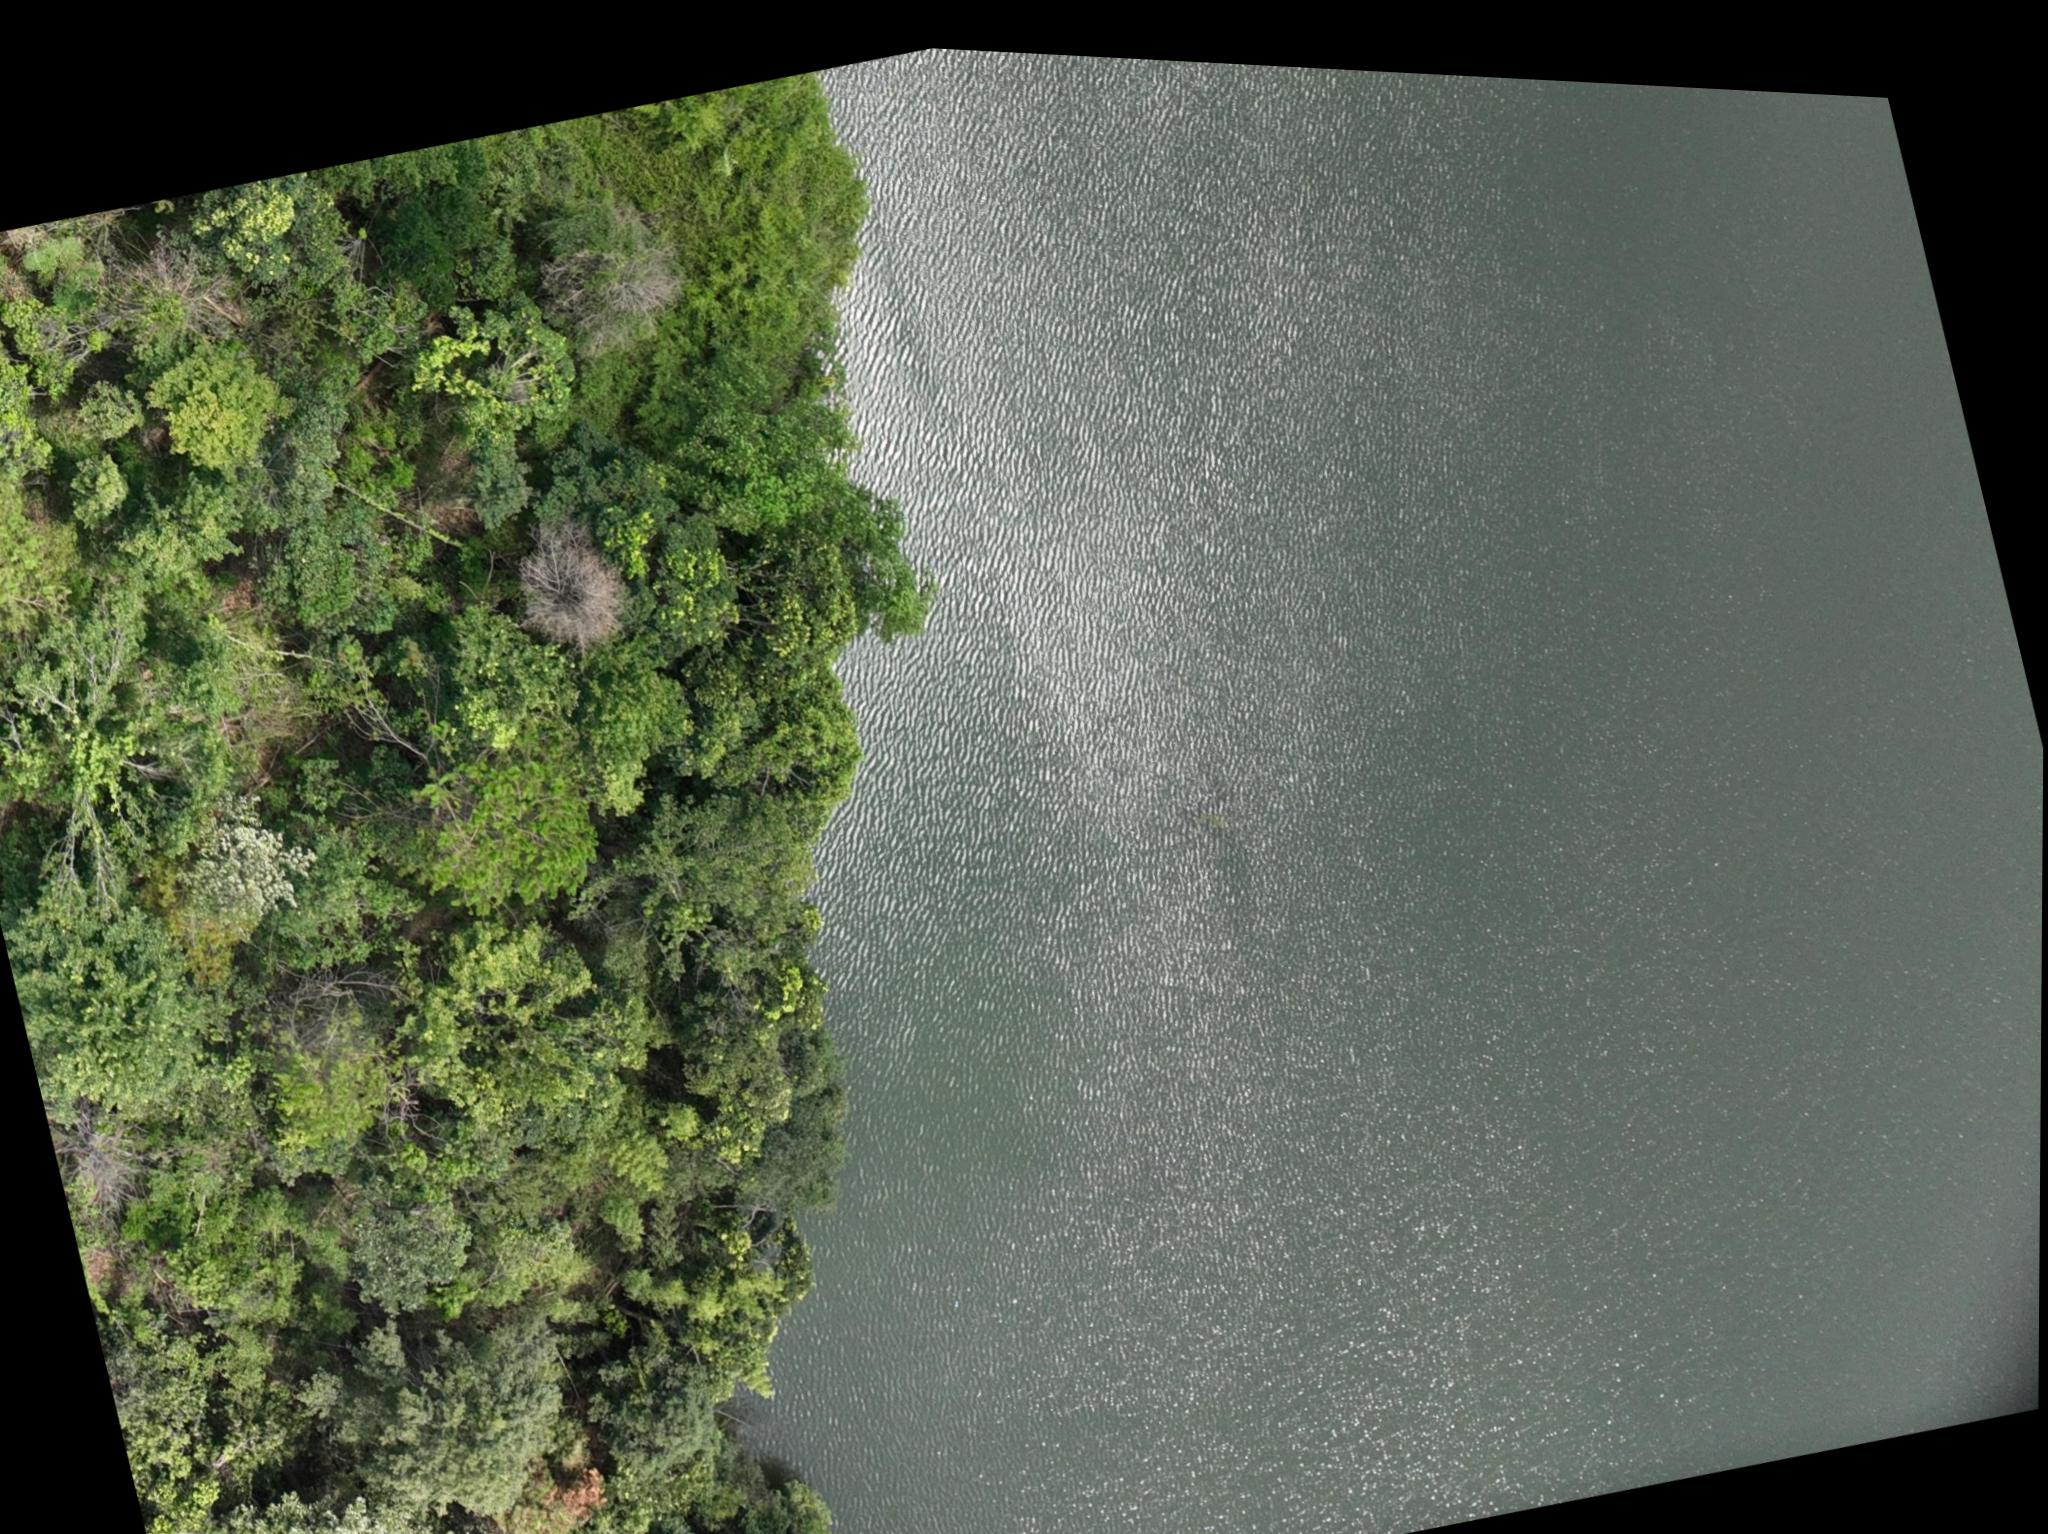dead: (509, 514, 633, 654)
